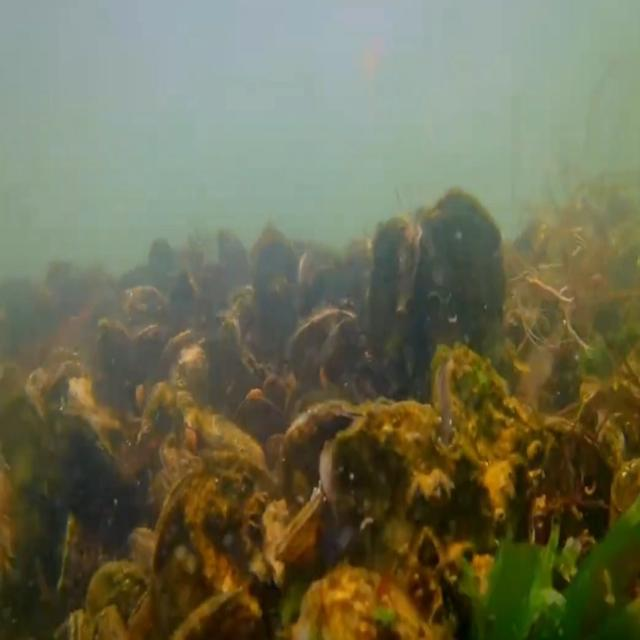Oyster-Closed: (280, 397, 398, 640), (42, 408, 142, 640), (526, 418, 626, 640), (133, 382, 186, 474), (274, 489, 326, 573)
Oyster-Indeterminate: (320, 401, 496, 640), (148, 464, 282, 640), (415, 188, 508, 411), (0, 388, 72, 639), (365, 216, 423, 390), (91, 316, 139, 418), (200, 408, 267, 470)
Oyster-Open: (428, 341, 539, 640), (289, 306, 356, 392), (158, 329, 208, 395)
